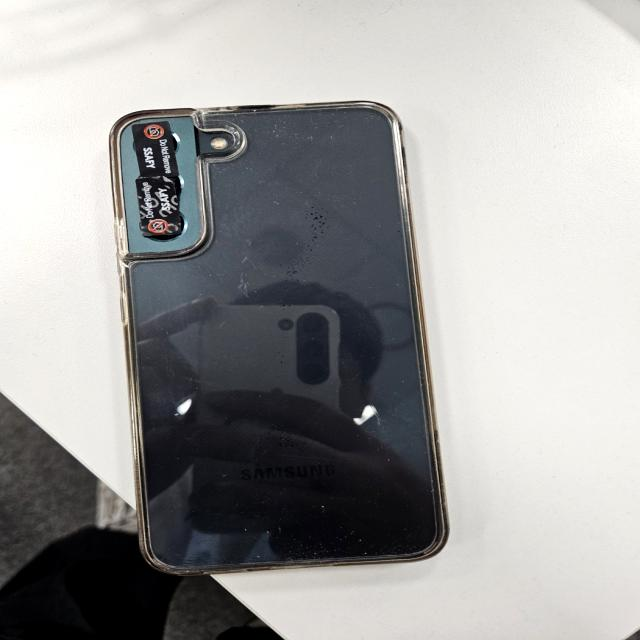phone: (114, 103, 453, 571)
removed_sticker: (137, 178, 180, 236)
sticker: (134, 123, 176, 176)
